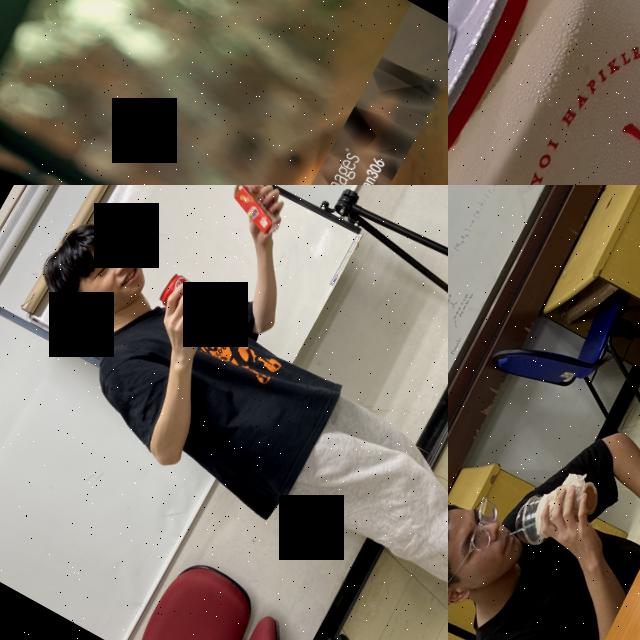can: (448, 0, 640, 185), (154, 270, 238, 342)
cup: (506, 454, 609, 564)
